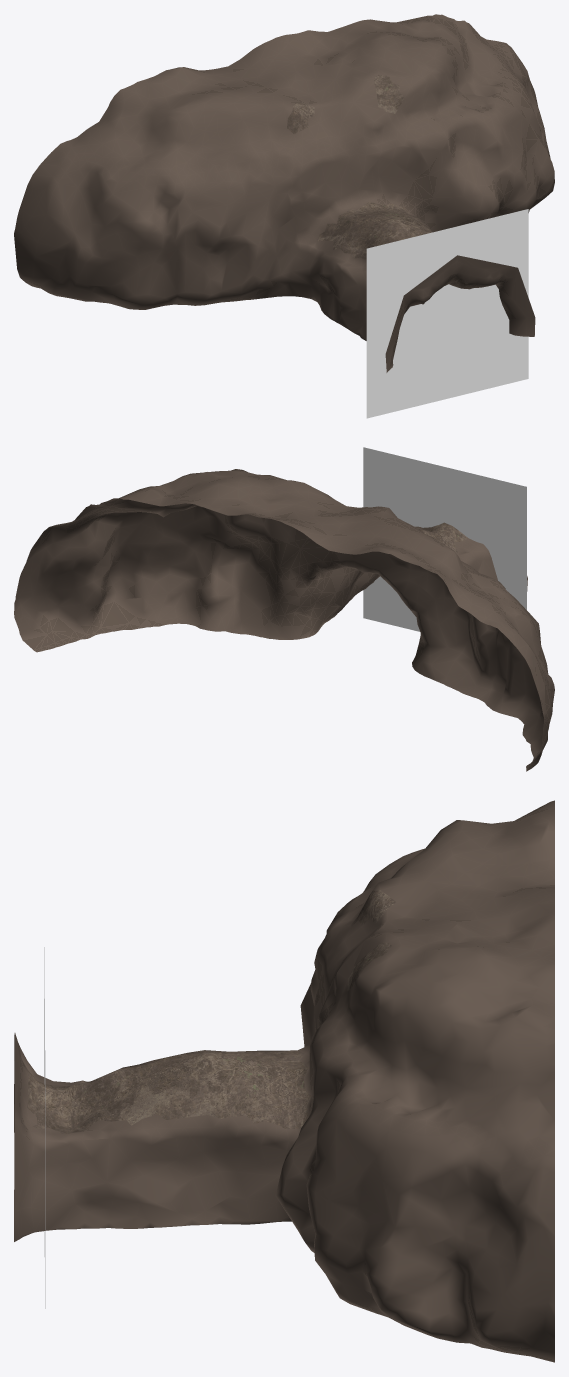
Rendered from a_com_nushi01_eventwall.gltf.
The picture shows the model from 3 angles, top to bottom: view 1: azimuth 30°, elevation 25°; view 2: azimuth 150°, elevation 25°; view 3: azimuth 270°, elevation 25°; orthographic projection. The views are drawn at different scales.
Parts seen in each view (by area): view 1: cave_event_wall_shape:ground_un_area06_cave01_03_mat, nomerge_fade_plane1_shape:entrance_fade_mat; view 2: cave_event_wall_shape:ground_un_area06_cave01_03_mat, nomerge_fade_plane1_shape:entrance_fade_mat, cave_event_wall_shape:ground_un_area06_cave01_01_mat; view 3: cave_event_wall_shape:ground_un_area06_cave01_03_mat, cave_event_wall_shape:ground_un_area06_cave01_01_mat.
Part boxes in pixels (x1,y1,x2,y2): cave_event_wall_shape:ground_un_area06_cave01_03_mat: [14, 14, 554, 369]; nomerge_fade_plane1_shape:entrance_fade_mat: [366, 209, 528, 418]; cave_event_wall_shape:ground_un_area06_cave01_03_mat: [14, 469, 554, 771]; nomerge_fade_plane1_shape:entrance_fade_mat: [363, 447, 526, 631]; cave_event_wall_shape:ground_un_area06_cave01_01_mat: [34, 575, 537, 768]; cave_event_wall_shape:ground_un_area06_cave01_03_mat: [14, 800, 554, 1362]; cave_event_wall_shape:ground_un_area06_cave01_01_mat: [14, 1103, 470, 1343].
Size of the model in its own units: 21.32 by 9.27 by 12.46.
3 materials, 2 textured.
